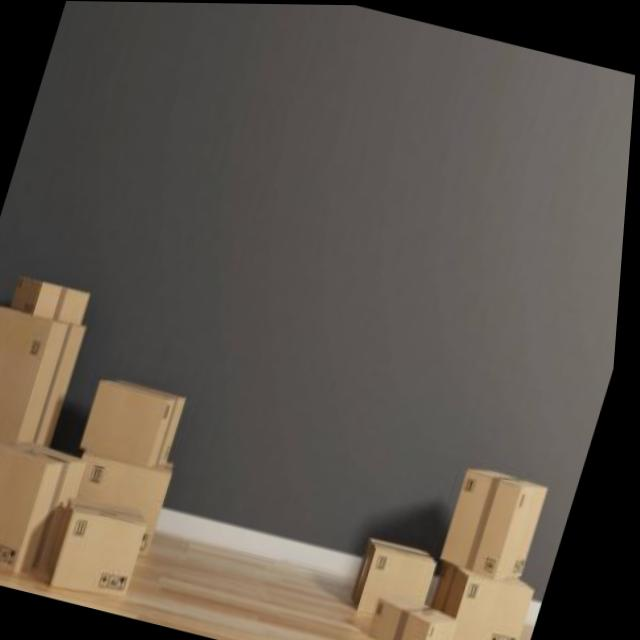box: (0, 298, 105, 558), (428, 448, 571, 615), (55, 436, 202, 560), (75, 360, 203, 480), (0, 430, 97, 582), (45, 495, 164, 616), (420, 541, 561, 640), (346, 525, 460, 637), (363, 576, 481, 640), (8, 267, 107, 338)
